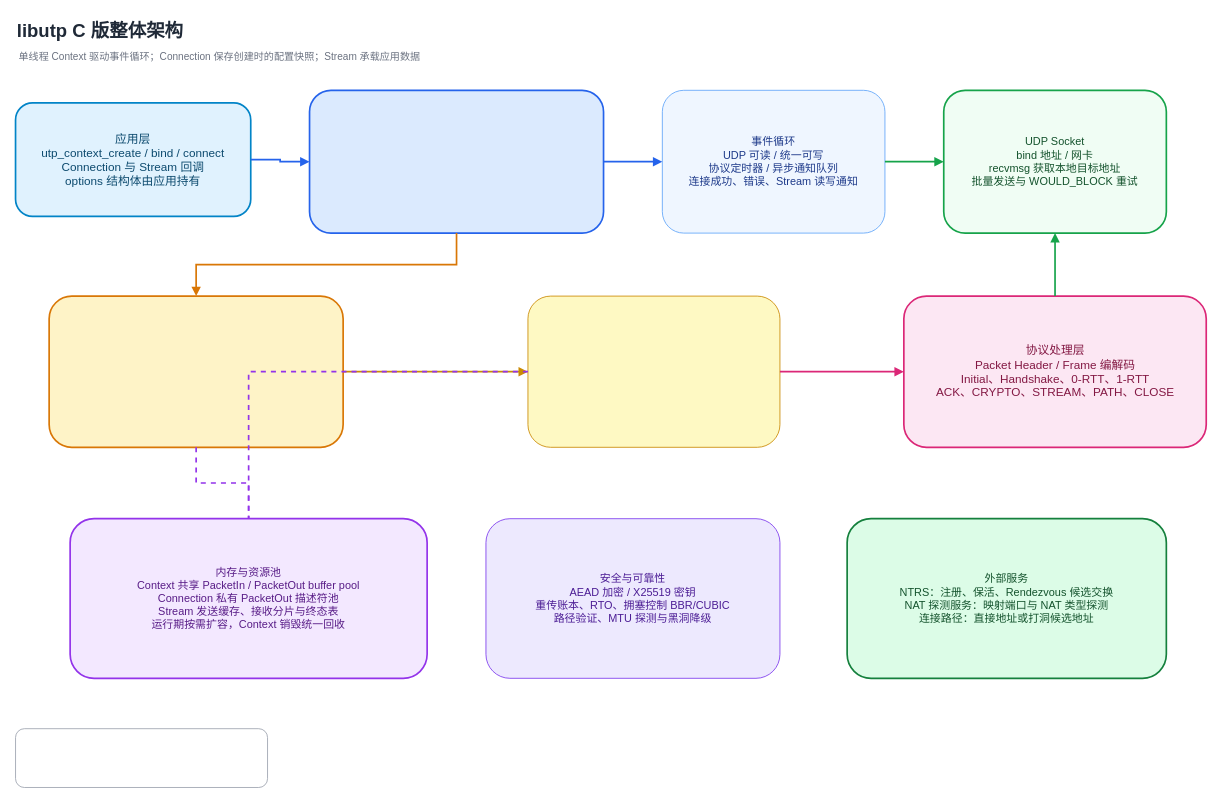
Some shapes in this 1221 by 802 pixel diagram are drawn without their labels. Each missing label, with the centre of its shape:
"Connection 集合 每条连接独立保存 options 快照 CID / peer / path / 加密状态 拥塞控制、ACK、保活、MTU、流控" belongs at (196,371).
"Context 统一生命周期与所有权边界 连接表 / pending 握手表 / attempt 表 本地候选地址、NTRS 状态、定时器" belongs at (456,161).
"Stream 集合 双向流 / 单向流 发送缓存与惰性分片重组 流级流控、读写异步通知" belongs at (653,371).
"实线：主数据路径 虚线：资源、控制或辅助关系" belongs at (141,758).
